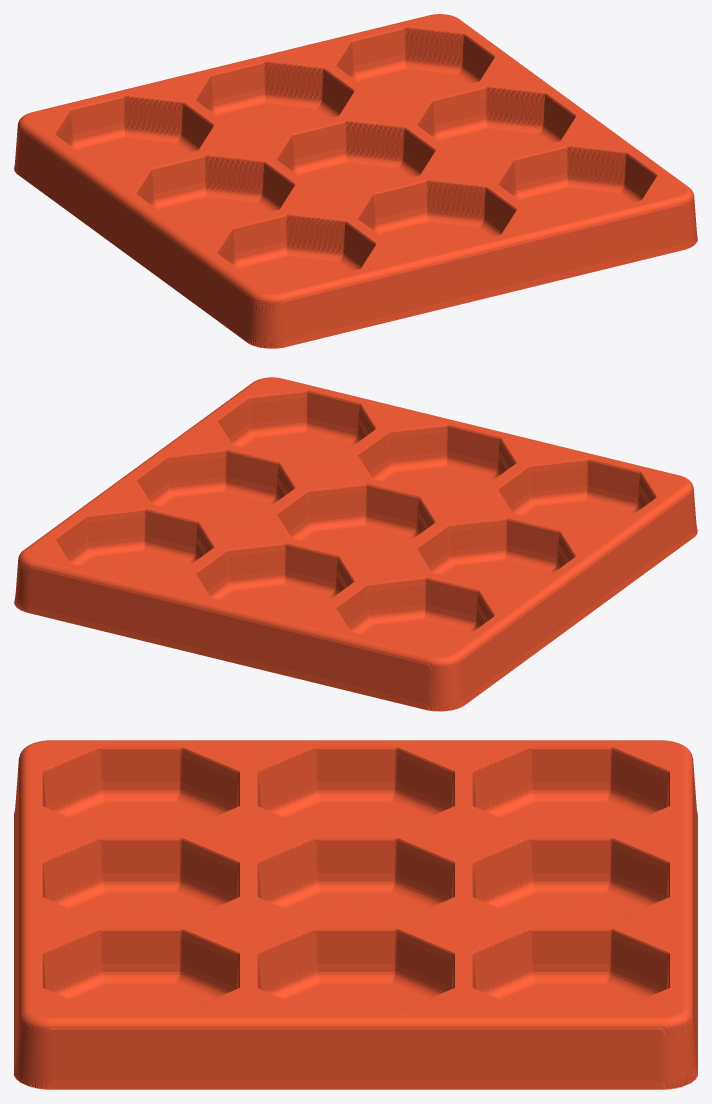
File: mold.glb
3 renders of one model, top to bottom at view 1: azimuth 30°, elevation 25°; view 2: azimuth 150°, elevation 25°; view 3: azimuth 270°, elevation 25°, orthographic. The views are drawn at different scales.
Parts seen in each view (by area): view 1: geometry_0; view 2: geometry_0; view 3: geometry_0.
Part boxes in pixels (left/top/right/bottom): geometry_0: left=14, top=14, right=697, bottom=348; geometry_0: left=14, top=377, right=697, bottom=711; geometry_0: left=14, top=740, right=697, bottom=1089.
Bounding box in the file's own units: 0.1647 × 0.0175 × 0.1647.
